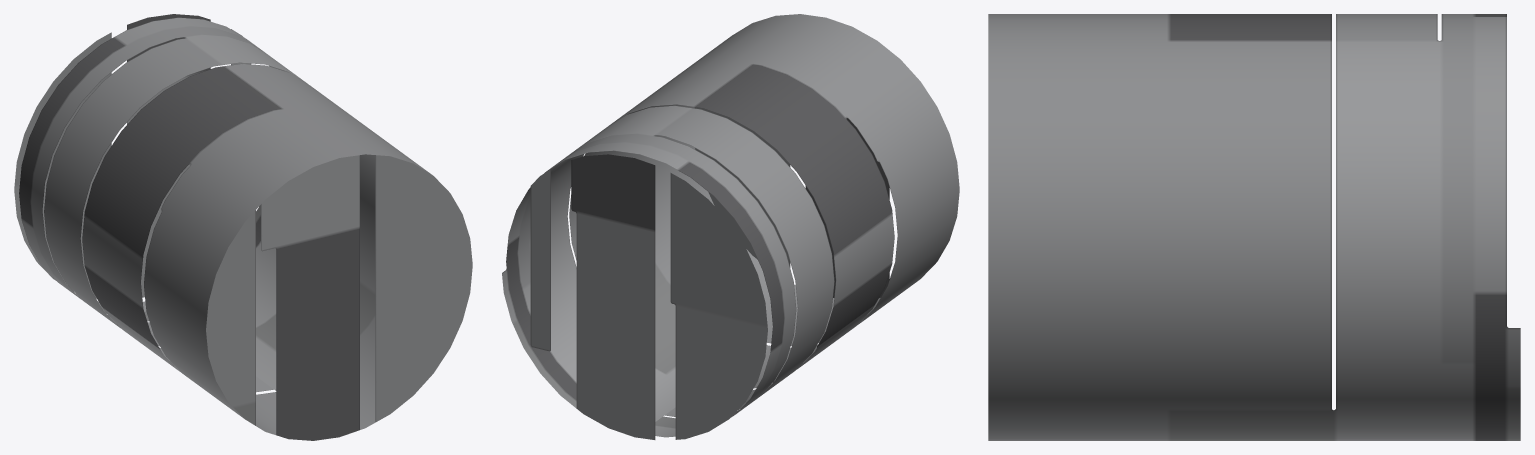
3 renders of one model, left to right at view 1: azimuth 30°, elevation 25°; view 2: azimuth 150°, elevation 25°; view 3: azimuth 270°, elevation 25°, orthographic. The views are drawn at different scales.
Size of the model in its own units: 0.6984 by 0.6984 by 0.8694.
